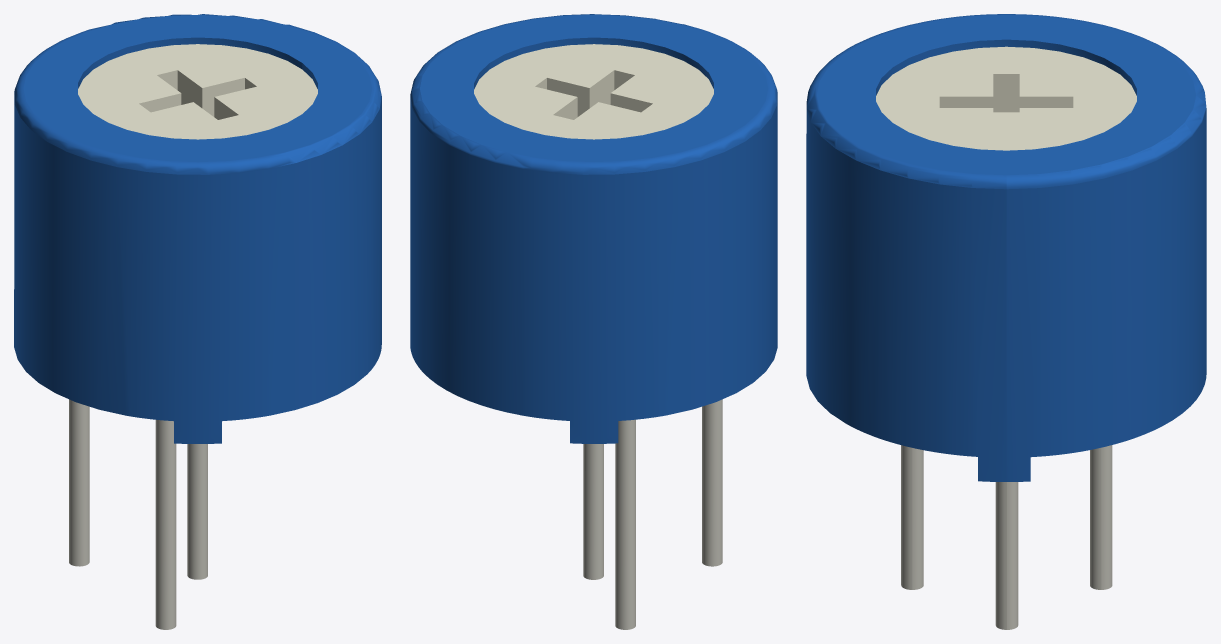
File: kc-potentiometer_bourns_3339h_vertical.glb
The picture shows the model from 3 angles, left to right: view 1: azimuth 30°, elevation 25°; view 2: azimuth 150°, elevation 25°; view 3: azimuth 270°, elevation 25°; orthographic projection. The views are drawn at different scales.
Parts seen in each view (by area): view 1: 0_0.16666666666666666_0.5_0, 0.75_0.75_0.6666666666666666_0, 0.6666666666666666_0.6666666666666666_0.5833333333333334_0.8; view 2: 0_0.16666666666666666_0.5_0, 0.75_0.75_0.6666666666666666_0, 0.6666666666666666_0.6666666666666666_0.5833333333333334_0.8; view 3: 0_0.16666666666666666_0.5_0, 0.75_0.75_0.6666666666666666_0, 0.6666666666666666_0.6666666666666666_0.5833333333333334_0.8.
Part boxes in pixels (x1,y1,x2,y2): 0_0.16666666666666666_0.5_0: [14, 14, 381, 443]; 0.75_0.75_0.6666666666666666_0: [78, 44, 317, 139]; 0.6666666666666666_0.6666666666666666_0.5833333333333334_0.8: [69, 399, 207, 629]; 0_0.16666666666666666_0.5_0: [410, 14, 777, 443]; 0.75_0.75_0.6666666666666666_0: [474, 44, 713, 139]; 0.6666666666666666_0.6666666666666666_0.5833333333333334_0.8: [583, 399, 722, 629]; 0_0.16666666666666666_0.5_0: [806, 14, 1206, 481]; 0.75_0.75_0.6666666666666666_0: [876, 46, 1136, 150]; 0.6666666666666666_0.6666666666666666_0.5833333333333334_0.8: [901, 445, 1112, 629].
Bounding box in the file's own units: 0.762 × 1.11 × 0.7615.
